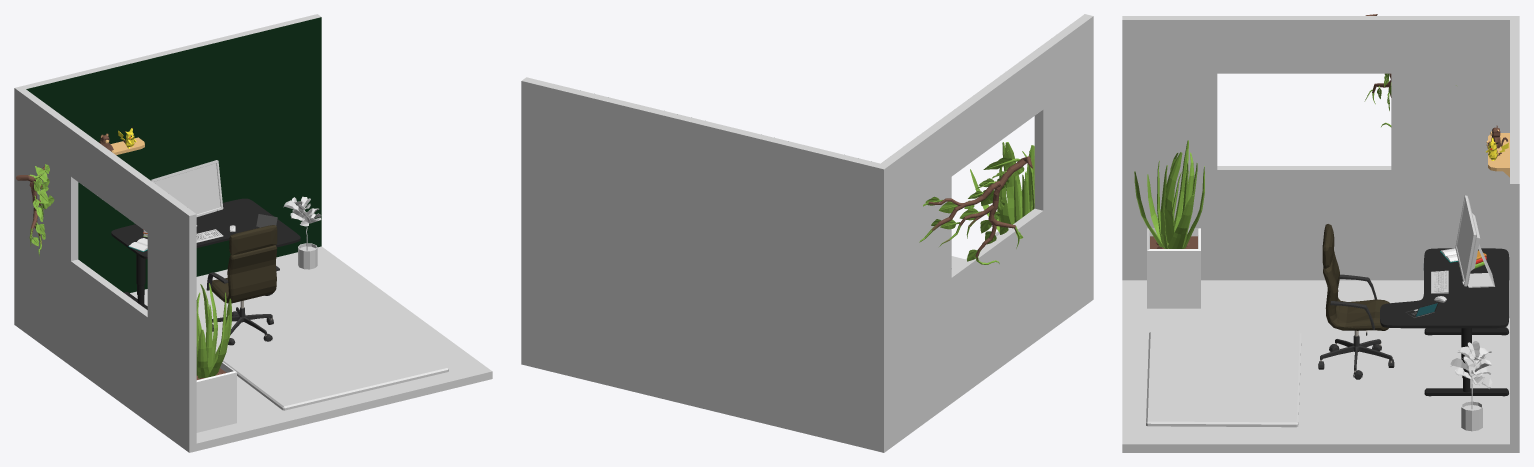
File: room.gltf
3 renders of one model, left to right at view 1: azimuth 30°, elevation 25°; view 2: azimuth 150°, elevation 25°; view 3: azimuth 270°, elevation 25°, orthographic. The views are drawn at different scales.
Parts seen in each view (by area): view 1: Plane, Doormat, Chair, FloorPlant, Desk, Monitor, WallPlant, FiddleleafFigPottedPlant; view 2: Plane, WallPlant, FloorPlant; view 3: Plane, Doormat, Desk, FloorPlant, Chair, Monitor, FiddleleafFigPottedPlant, Shelf, Keyboard.
Boxes of the visible parts, x1,y1,x2,y2 form: Plane: (14,14,492,452); Doormat: (222,319,448,410); Chair: (206,225,279,345); FloorPlant: (196,283,236,432); Desk: (111,198,300,309); Monitor: (151,160,223,226); WallPlant: (16,164,54,256); FiddleleafFigPottedPlant: (283,196,321,269); Plane: (521,14,1093,452); WallPlant: (919,156,1032,264); FloorPlant: (970,142,1034,243); Plane: (1122,16,1519,452); Doormat: (1146,331,1301,427); Desk: (1380,248,1509,396); FloorPlant: (1134,140,1204,308); Chair: (1318,224,1394,379); Monitor: (1455,195,1494,287); FiddleleafFigPottedPlant: (1450,341,1492,431); Shelf: (1488,133,1509,177); Keyboard: (1431,270,1448,293).
Size of the model in its own units: 4.93 by 3.07 by 4.1.
